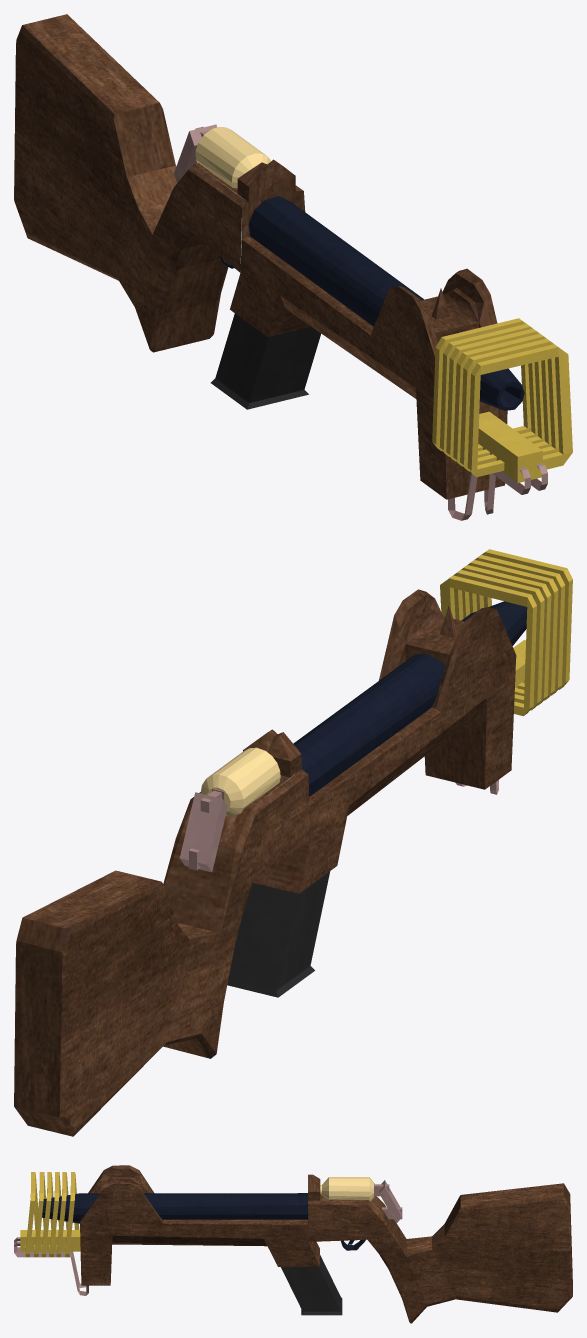
Rendered from semiautomatic-rifle.obj.
3 views of the same model, one above another, from view 1: azimuth 30°, elevation 25°; view 2: azimuth 150°, elevation 25°; view 3: azimuth 270°, elevation 25° (orthographic). The views are drawn at different scales.
Visible parts, largest first — view 1: MainFrame.001_Cube.010; view 2: MainFrame.001_Cube.010; view 3: MainFrame.001_Cube.010.
Boxes of the visible parts, bbox=[...] form: MainFrame.001_Cube.010: bbox=[14, 14, 572, 520]; MainFrame.001_Cube.010: bbox=[14, 549, 572, 1136]; MainFrame.001_Cube.010: bbox=[14, 1165, 572, 1323].
Size of the model in its own units: 0.3826 by 0.9971 by 3.57.
